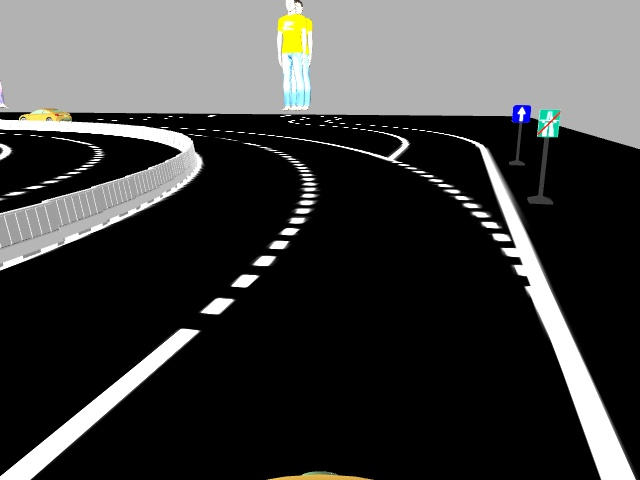HighwayExit: (537, 108, 557, 136)
OneWay: (511, 102, 531, 122)
